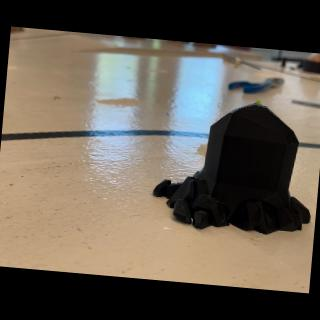teletubby: (255, 100, 261, 105)
